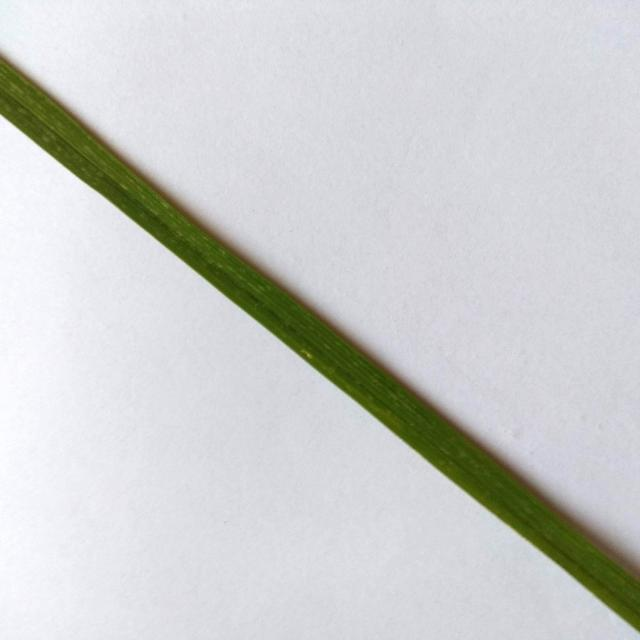Rice_Healthy: (0, 59, 640, 631)
